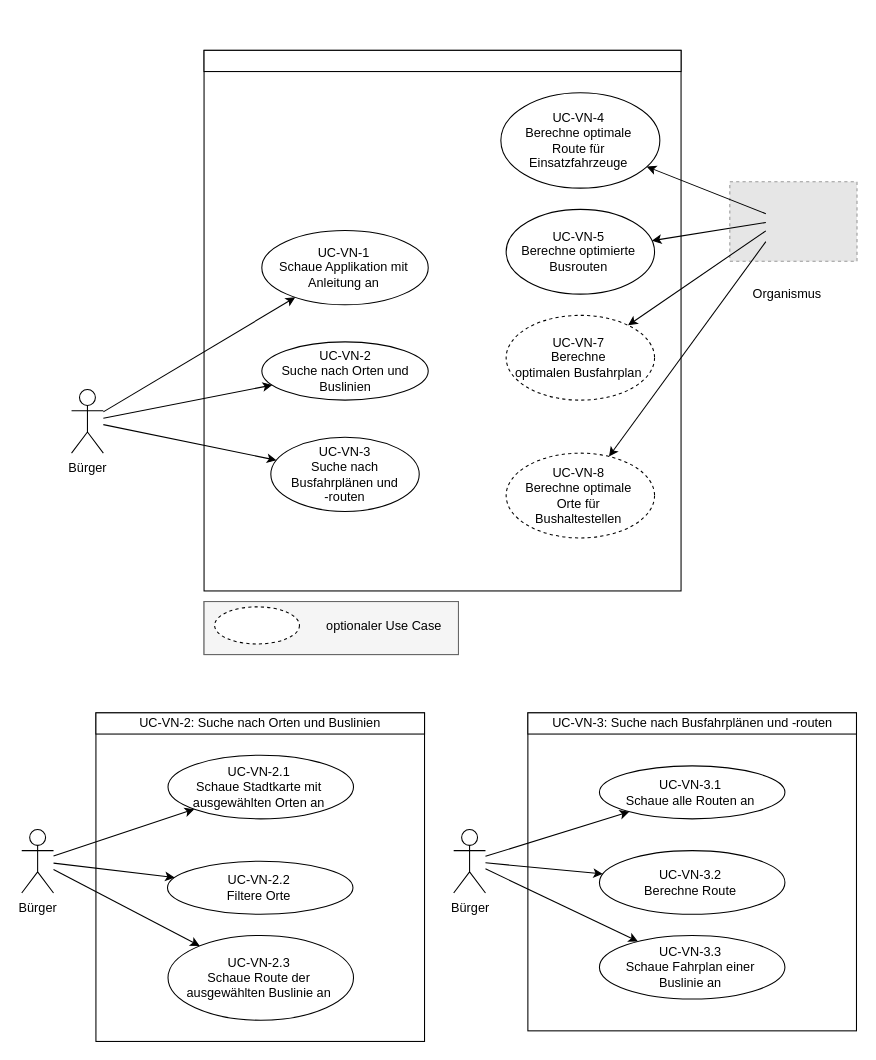
This 876x1060 diagram has some shape labels left out. Grey dashed boxes stand in for pictures. Each missing label, with the box of its shape:
Use Case: (214, 606, 299, 644)
Verkehrs-Node: (203, 49, 681, 72)
